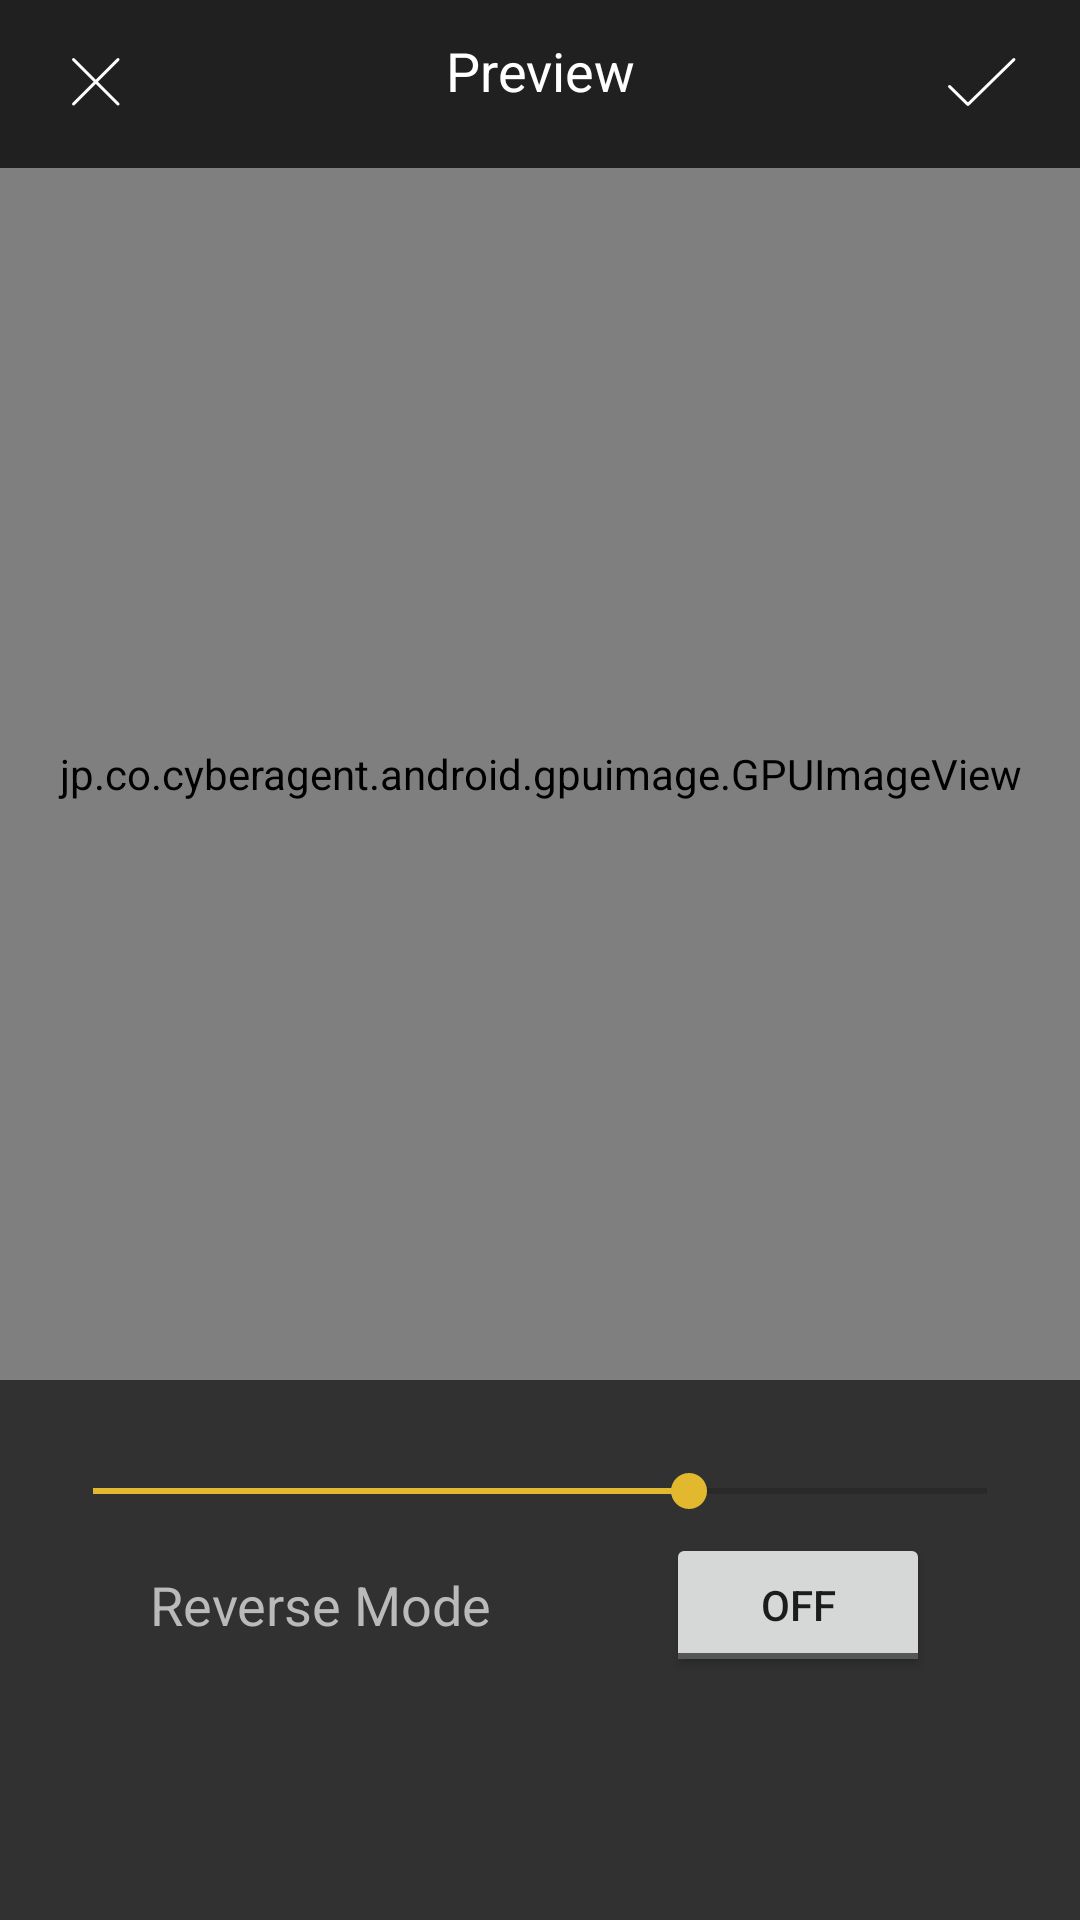

Locate icon controls on the screen. Image size 1080*1920, boxes as bbox(x1, y1, x2, y2).
cancel: bbox(72, 58, 120, 106)
done: bbox(948, 58, 1016, 106)
